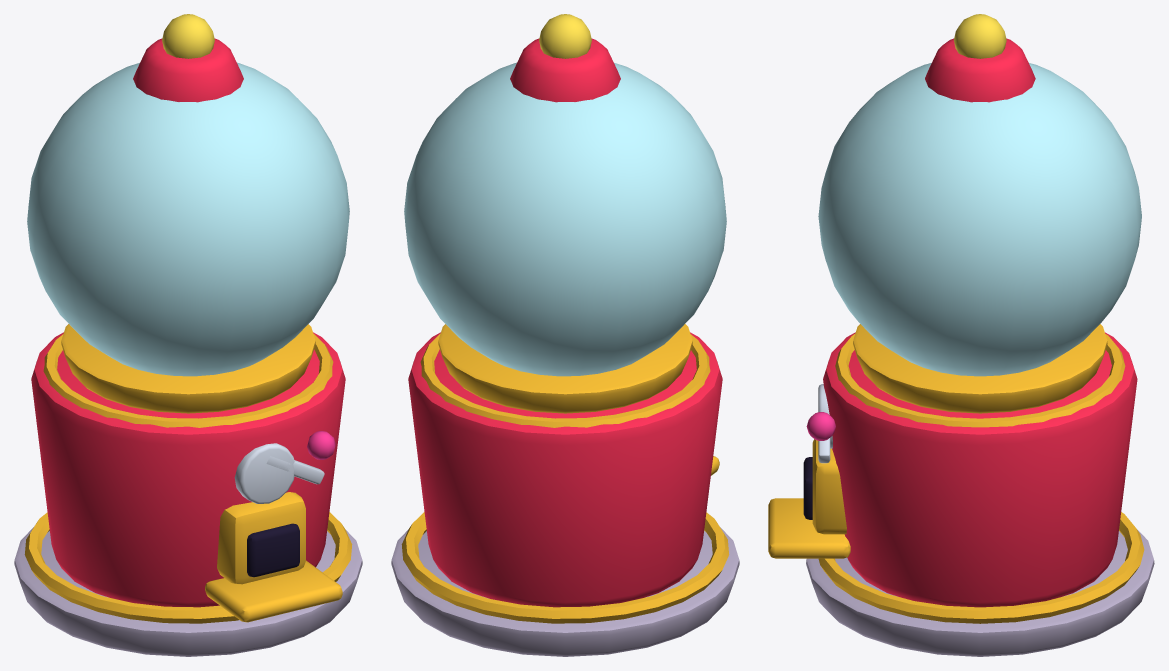
The model's file is base_generator.fbx.
The picture shows the model from 3 angles, left to right: view 1: azimuth 30°, elevation 25°; view 2: azimuth 150°, elevation 25°; view 3: azimuth 270°, elevation 25°; orthographic projection.
Visible parts, largest first — view 1: base_generator, base_generator_Glass; view 2: base_generator, base_generator_Glass; view 3: base_generator, base_generator_Glass.
Boxes of the visible parts, x1,y1,x2,y2 form: base_generator: (14,14,362,656); base_generator_Glass: (27,62,349,376); base_generator: (391,14,739,656); base_generator_Glass: (404,62,726,376); base_generator: (768,14,1154,656); base_generator_Glass: (818,63,1141,376).
Size of the model in its own units: 5.92 by 10.75 by 6.56.
Materials: 2 (1 with a texture image).
